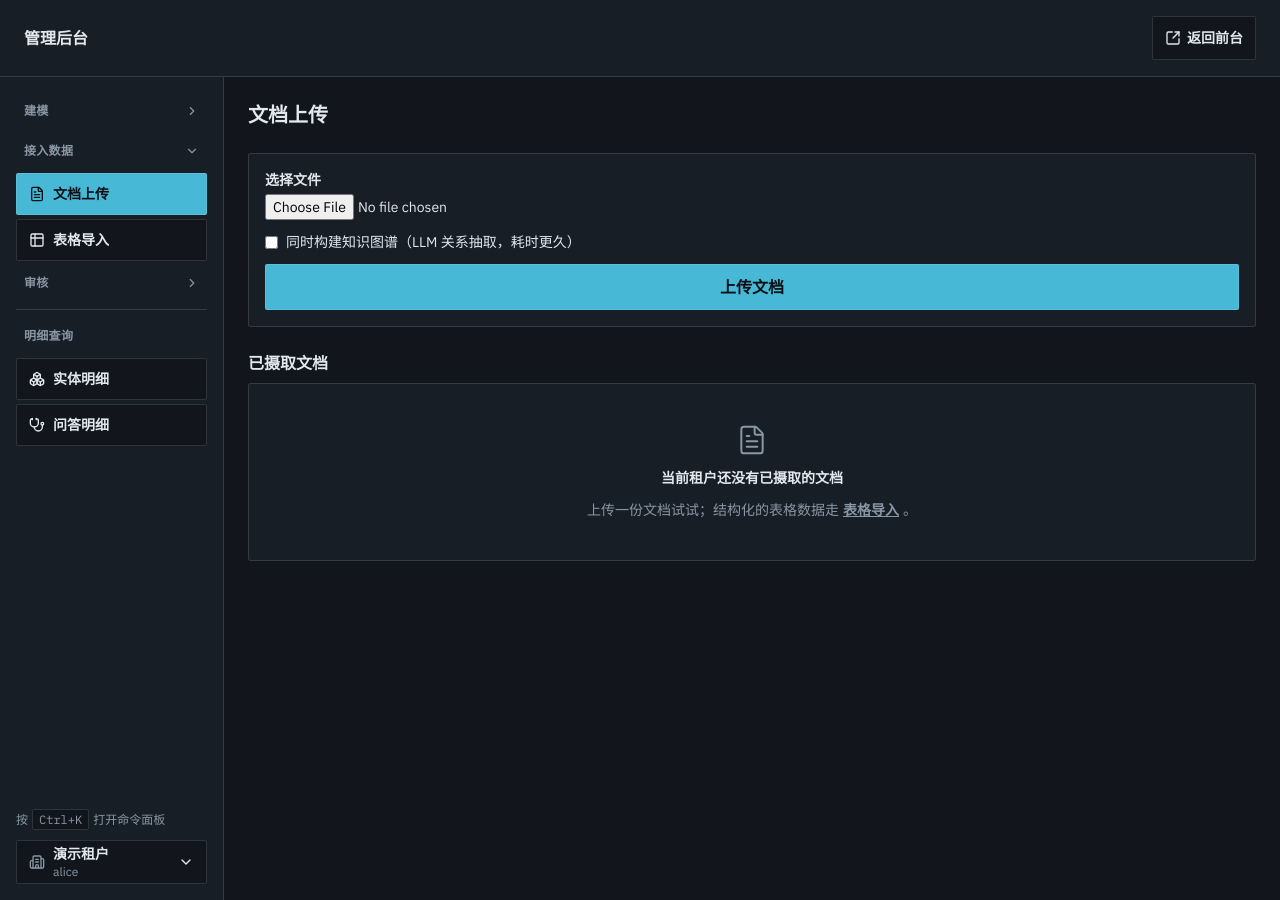
member 的菜单 › 设置和登出还在——菜单不是整个消失
The image size is (1280, 900).
Expected: the header with test id "admin-topbar" is shown, [0,0,1279,77]
Click the button with aria-label "账号与租户". click: coordinates (112, 862)
box: [16,840,207,884]
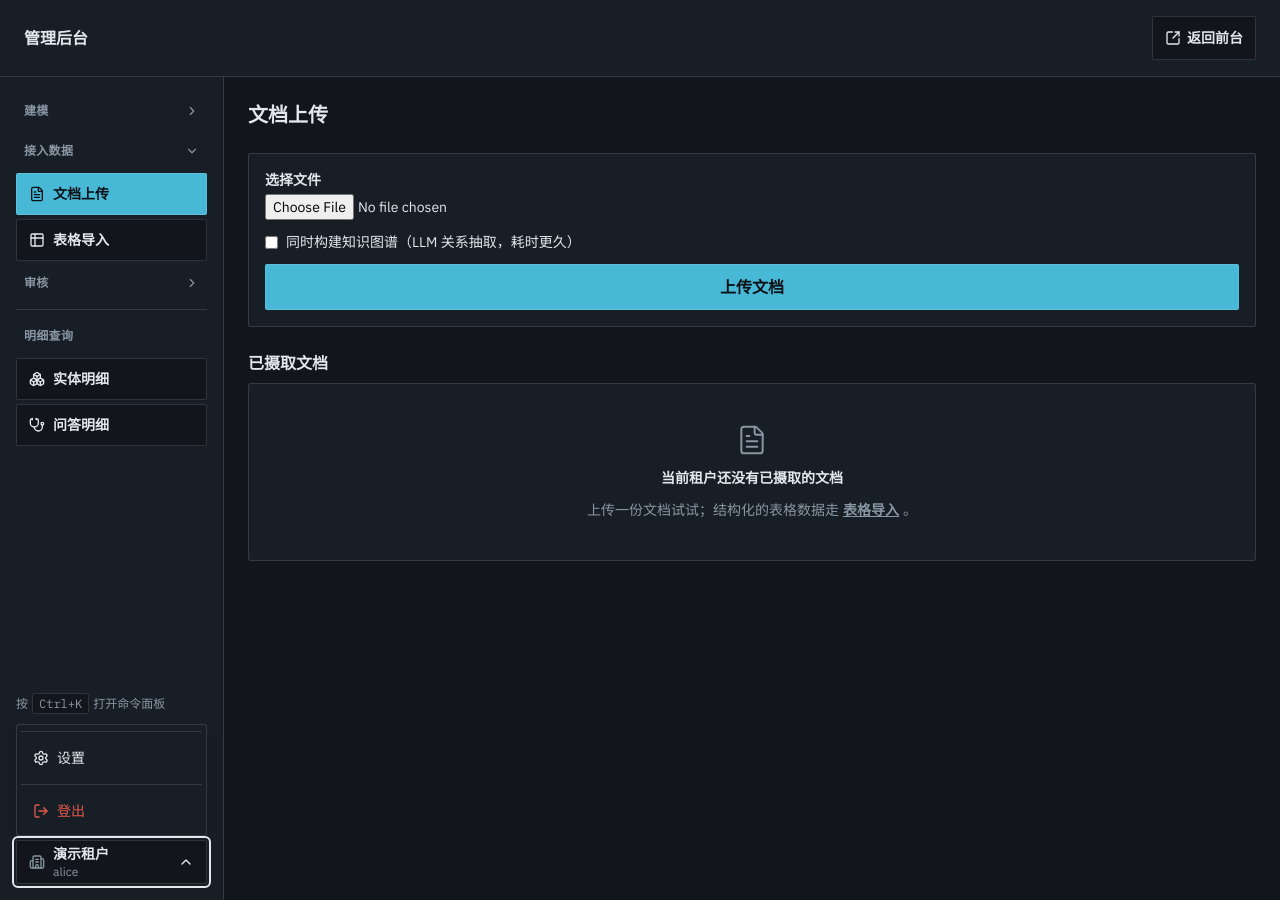
Now the menu item "设置" is shown, box [33,749,85,767]
Now the menu item "登出" is shown, box [21,791,202,831]
